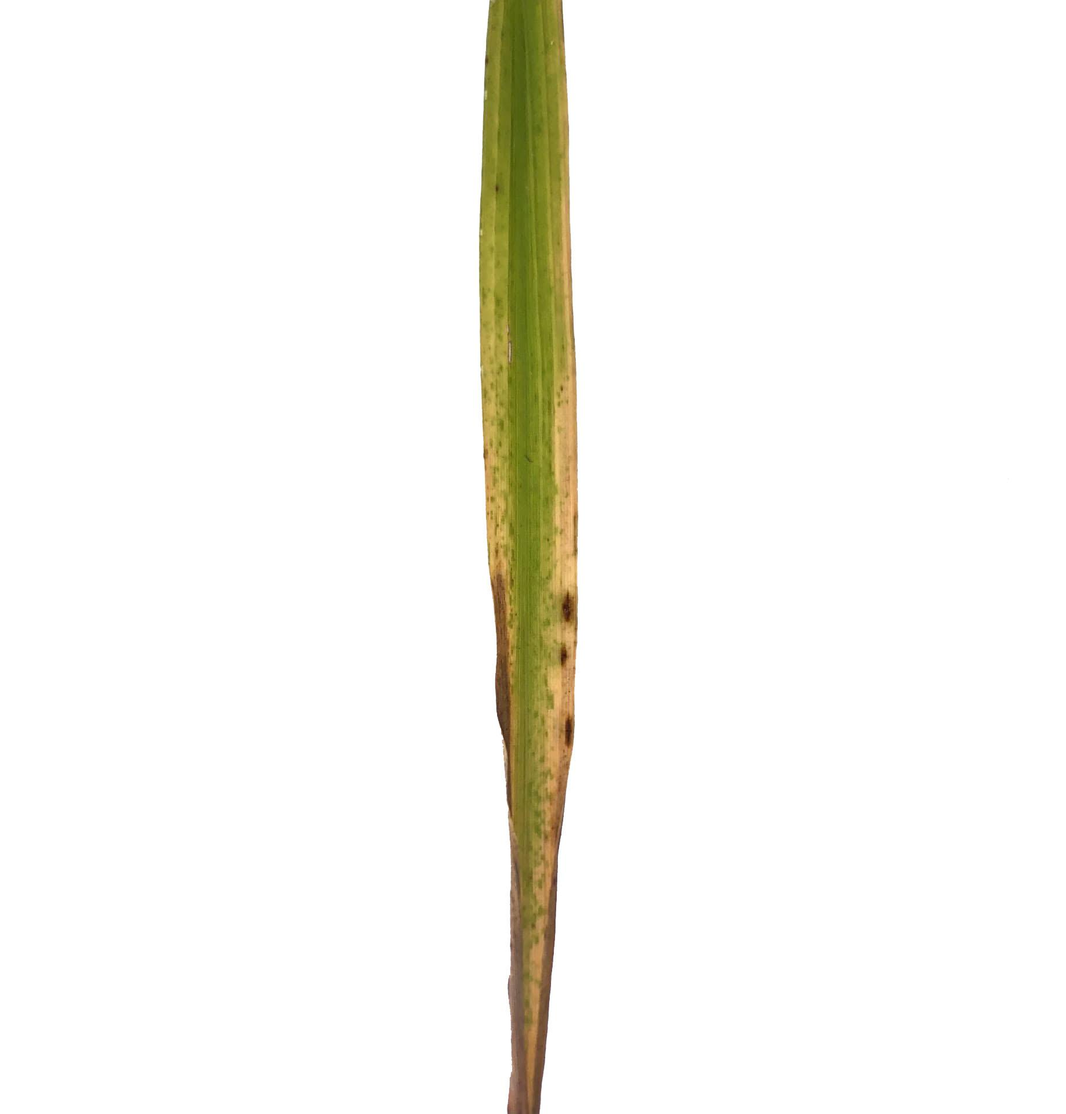Tungro: (479, 0, 582, 1114)
